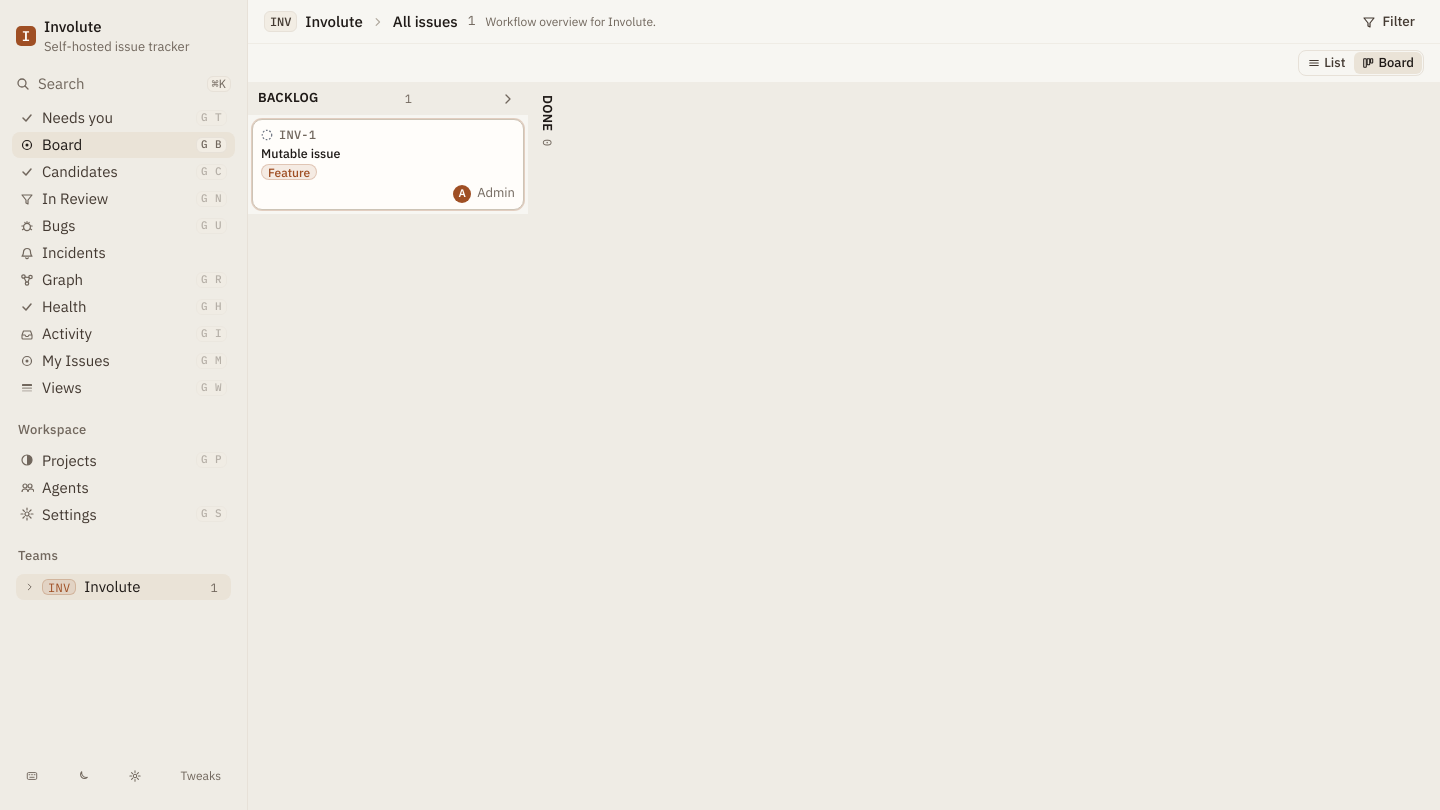
Scenario: App delete flows › deletes a comment from the issue drawer
The image size is (1440, 810).
Click the button with aria-label "Open INV-1" at coordinates (298, 134), box [253,120,523,209]
(page scrolled)
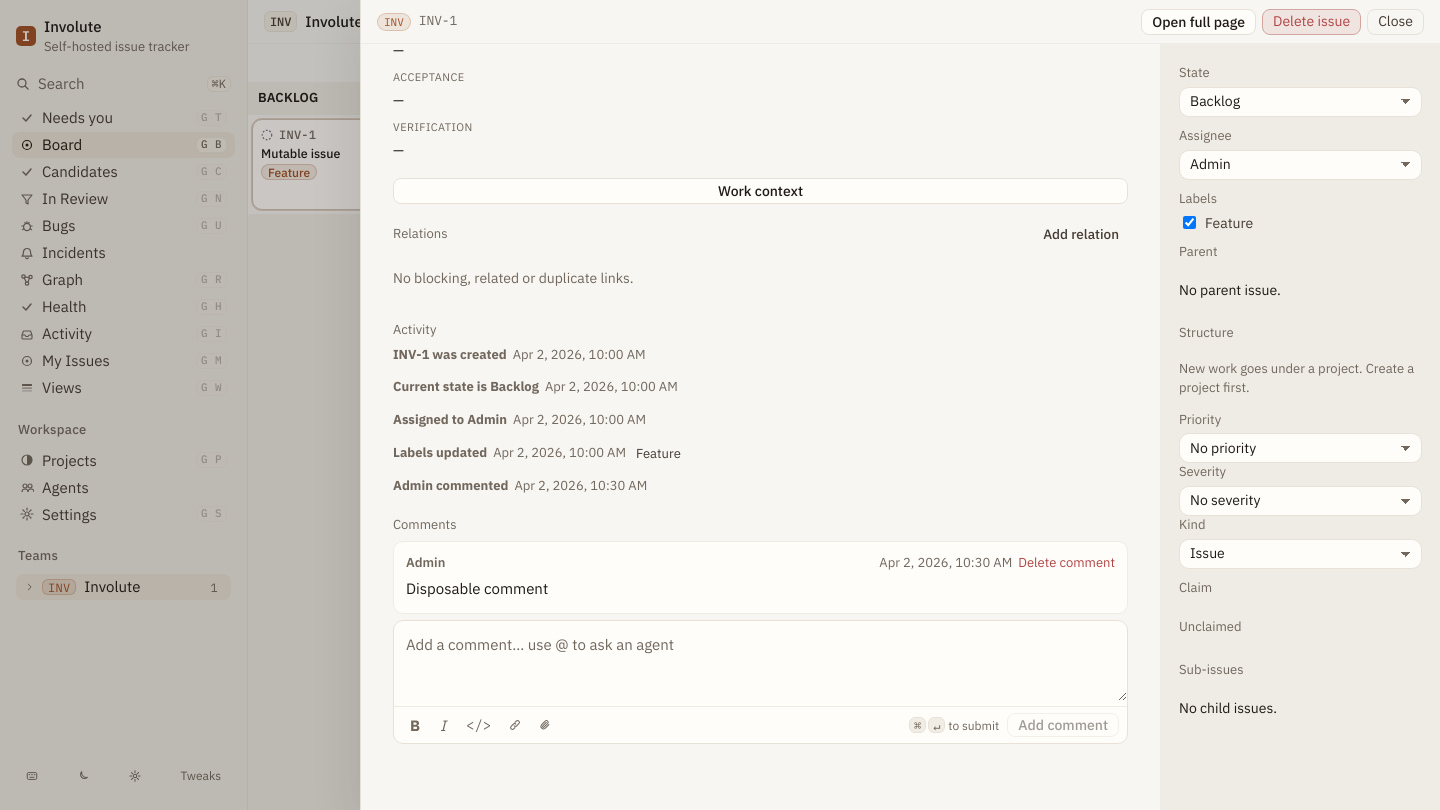
Click the button "Delete comment" at coordinates (1067, 563), box [1018,554,1115,572]
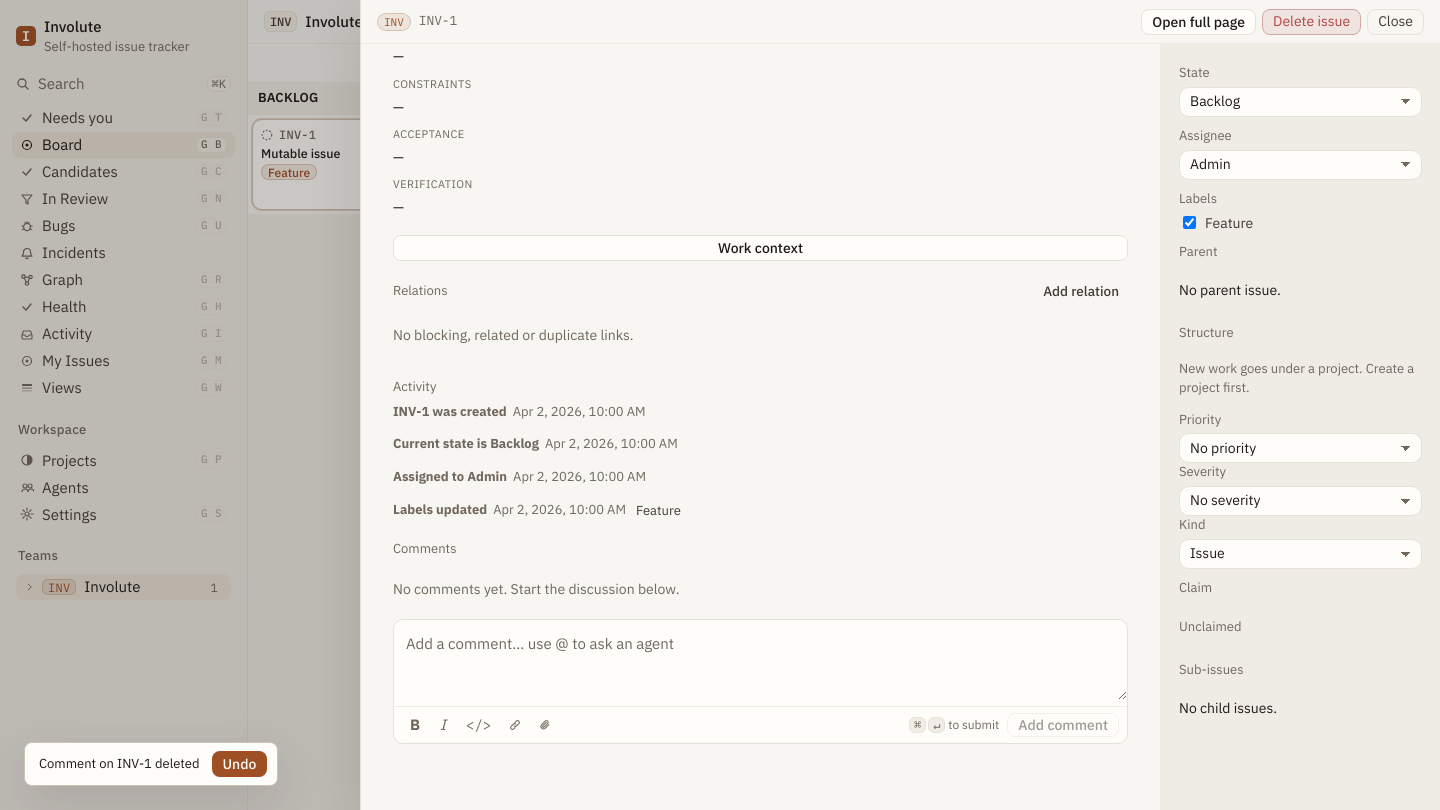
Check: the text "Disposable comment" is gone
